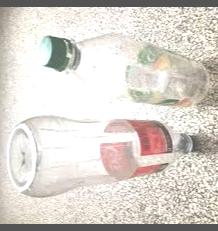bottle: (2, 113, 200, 199), (36, 32, 212, 110)
